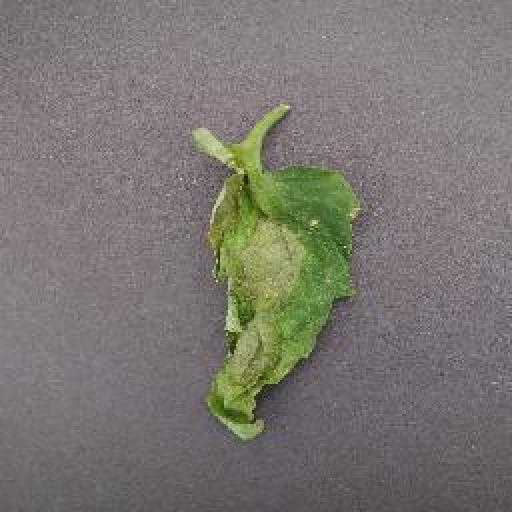Late Blight: (203, 162, 361, 446)
